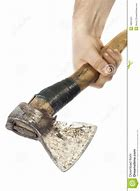axe: (5, 28, 127, 174)
